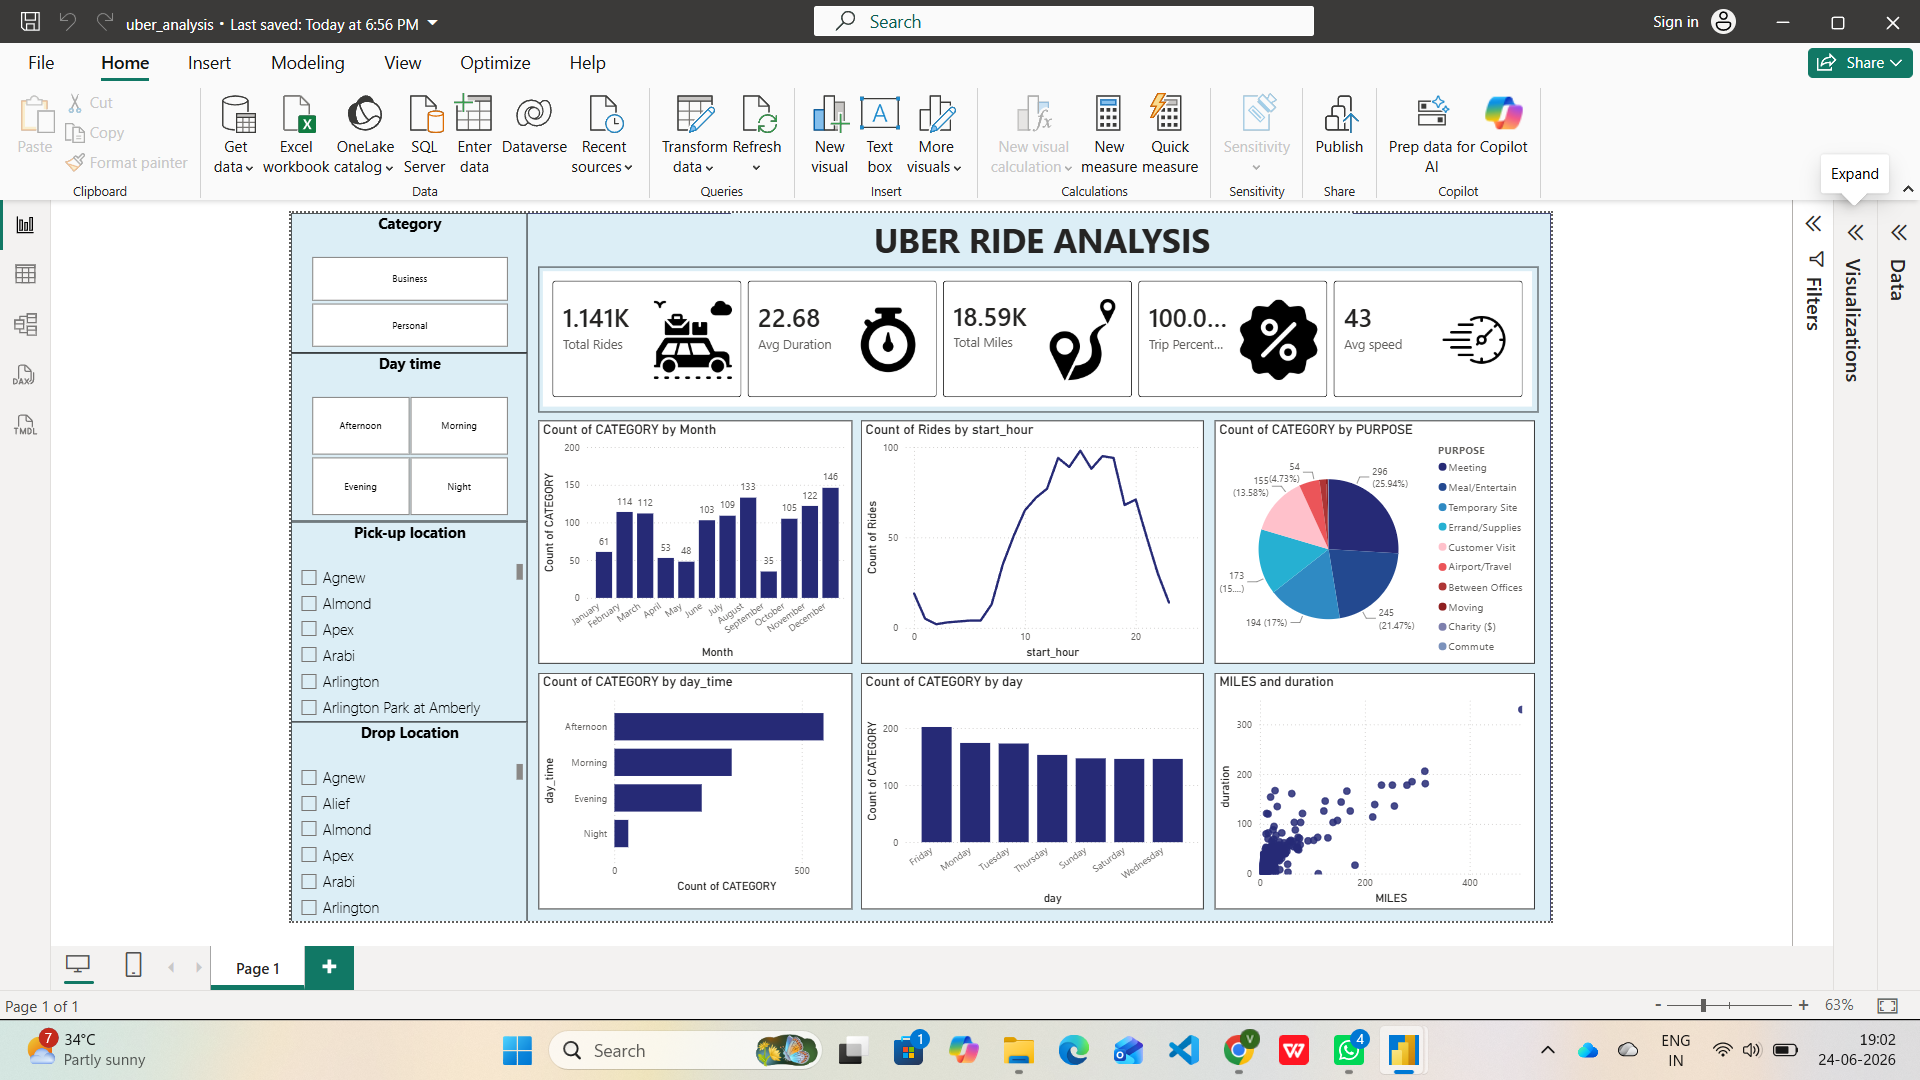

Layout of this report page (visuals, bound fields, positions):
{"tool":"powerbi","page":{"name":" Page 1","canvas":[1600,900],"ordinal":0},"visuals":[{"type":"shape","box":[0,0,1600,900],"z":0},{"type":"columnChart","fields":{"Category":["UberDatasetCleaned.end_date.Variation.Date Hierarchy.Month"],"Y":["CountNonNull(UberDatasetCleaned.CATEGORY)"]},"box":[313.6,262.7,398.3,308.5],"z":1000},{"type":"lineChart","fields":{"Category":["UberDatasetCleaned.start_hour"],"Y":["CountNonNull(UberDatasetCleaned.CATEGORY)"]},"box":[723.7,262.7,435.6,308.5],"z":2000},{"type":"pieChart","fields":{"Category":["UberDatasetCleaned.PURPOSE"],"Y":["CountNonNull(UberDatasetCleaned.CATEGORY)"]},"box":[1172.9,262.7,406.8,308.5],"z":3000},{"type":"lineStackedColumnComboChart","fields":{"Category":["UberDatasetCleaned.day"],"Y":["CountNonNull(UberDatasetCleaned.CATEGORY)"]},"box":[723.7,584.7,435.6,300],"z":4000},{"type":"clusteredBarChart","fields":{"Category":["UberDatasetCleaned.day_time"],"Y":["CountNonNull(UberDatasetCleaned.CATEGORY)"]},"box":[313.6,584.7,398.3,300],"z":5000},{"type":"textbox","box":[559.3,0,789.8,67.8],"z":6000},{"type":"shape","title":"menubar","box":[0,0,300,900],"z":7000},{"type":"slicer","title":"Category","fields":{"Values":["UberDatasetCleaned.CATEGORY"]},"box":[0,0,300,178],"z":8000},{"type":"slicer","title":"Day time","fields":{"Values":["UberDatasetCleaned.day_time"]},"box":[0,178,300,213.6],"z":9000},{"type":"slicer","title":"Pick-up location","fields":{"Values":["UberDatasetCleaned.START"]},"box":[0,391.5,300,254.2],"z":10000},{"type":"slicer","title":"Drop Location","fields":{"Values":["UberDatasetCleaned.STOP"]},"box":[0,645.8,300,254.2],"z":11000},{"type":"scatterChart","fields":{"X":["UberDatasetCleaned.MILES"],"Y":["UberDatasetCleaned.duration"]},"box":[1172.9,584.7,406.8,300],"z":12000},{"type":"cardVisual","title":"tcard","fields":{"Data":["CountNonNull(UberDatasetCleaned.end_date)","Avg(UberDatasetCleaned.duration)","UberDatasetCleaned.Total Miles","UberDatasetCleaned.Selected Filter %","Avg(UberDatasetCleaned.speed)"]},"box":[313.6,67.8,1269.5,184.7],"z":13000}]}

Visuals, with their boxes on the page's 1600x900 design canvas (x1, y1, x2, y2). These are canvas units, not pixel positions in the 1920x1080 screenshot, which may show the page scaled, cropped or inside an application window:
shape: <bbox>0, 0, 1600, 900</bbox>
columnChart - UberDatasetCleaned.end_date.Variation.Date Hierarchy.Month x CountNonNull(UberDatasetCleaned.CATEGORY): <bbox>314, 263, 712, 571</bbox>
lineChart - UberDatasetCleaned.start_hour x CountNonNull(UberDatasetCleaned.CATEGORY): <bbox>724, 263, 1159, 571</bbox>
pieChart - UberDatasetCleaned.PURPOSE x CountNonNull(UberDatasetCleaned.CATEGORY): <bbox>1173, 263, 1580, 571</bbox>
lineStackedColumnComboChart - UberDatasetCleaned.day x CountNonNull(UberDatasetCleaned.CATEGORY): <bbox>724, 585, 1159, 885</bbox>
clusteredBarChart - UberDatasetCleaned.day_time x CountNonNull(UberDatasetCleaned.CATEGORY): <bbox>314, 585, 712, 885</bbox>
textbox: <bbox>559, 0, 1349, 68</bbox>
"menubar" shape: <bbox>0, 0, 300, 900</bbox>
"Category" slicer: <bbox>0, 0, 300, 178</bbox>
"Day time" slicer: <bbox>0, 178, 300, 392</bbox>
"Pick-up location" slicer: <bbox>0, 392, 300, 646</bbox>
"Drop Location" slicer: <bbox>0, 646, 300, 900</bbox>
scatterChart - UberDatasetCleaned.MILES x UberDatasetCleaned.duration: <bbox>1173, 585, 1580, 885</bbox>
"tcard" cardVisual: <bbox>314, 68, 1583, 252</bbox>
